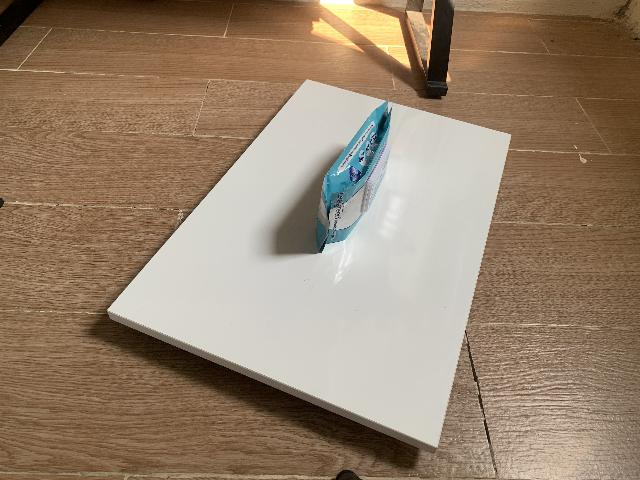Let-green_alcohol_wipes: (316, 98, 397, 254)
